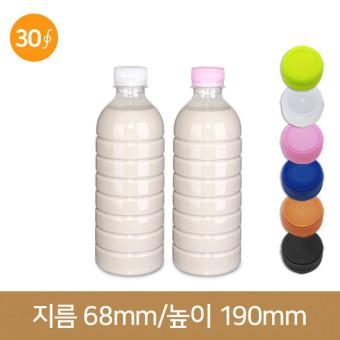bottle: (169, 69, 240, 275), (96, 69, 164, 275)
